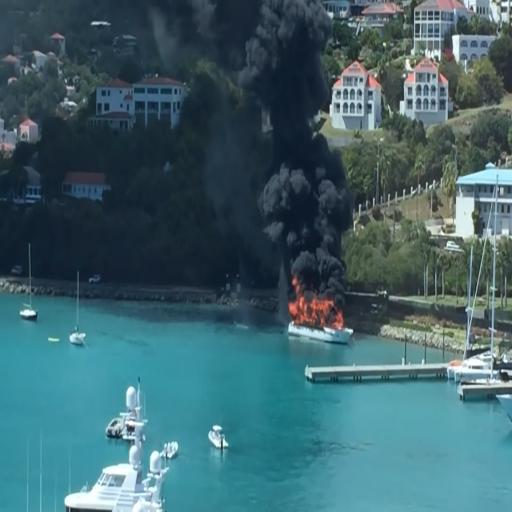fire: (289, 283, 339, 334)
smoke: (230, 0, 336, 128), (270, 140, 348, 279)
